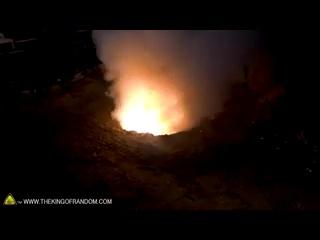Fire: (114, 60, 187, 138)
